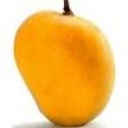mango: (13, 5, 116, 128)
